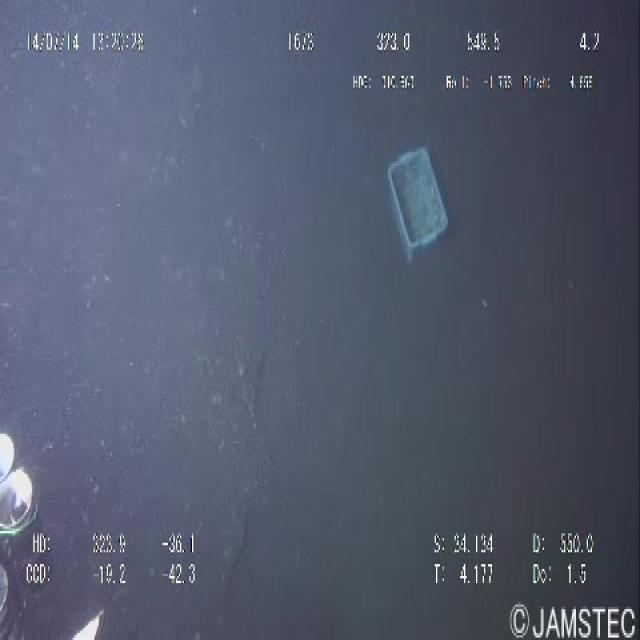plastic: (376, 126, 467, 260)
